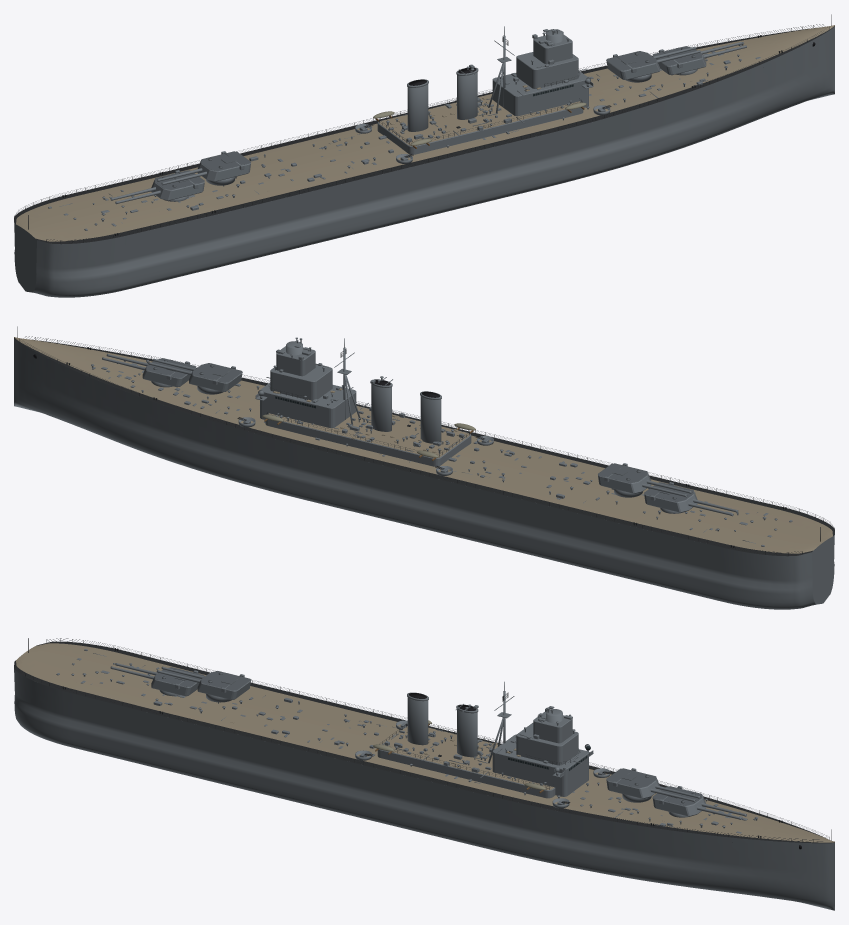
File: hood.glb
The picture shows the model from 3 angles, top to bottom: view 1: azimuth 30°, elevation 25°; view 2: azimuth 150°, elevation 25°; view 3: azimuth 330°, elevation 25°; orthographic projection.
Parts seen in each view (by area): view 1: hood, T_2_malla, T_1_malla, T_3_malla, T_0_malla; view 2: hood, T_2_malla, T_1_malla, T_3_malla, T_0_malla; view 3: hood, T_1_malla, T_2_malla, T_0_malla, T_3_malla.
Boxes of the visible parts, bbox=[...] form: hood: bbox=[14, 14, 834, 297]; T_2_malla: bbox=[197, 151, 250, 181]; T_1_malla: bbox=[606, 51, 659, 79]; T_3_malla: bbox=[151, 170, 204, 200]; T_0_malla: bbox=[652, 46, 706, 75]; hood: bbox=[14, 326, 834, 609]; T_2_malla: bbox=[598, 463, 651, 493]; T_1_malla: bbox=[189, 363, 242, 391]; T_3_malla: bbox=[644, 482, 697, 512]; T_0_malla: bbox=[142, 358, 196, 387]; hood: bbox=[14, 638, 834, 910]; T_1_malla: bbox=[606, 768, 659, 798]; T_2_malla: bbox=[197, 671, 250, 699]; T_0_malla: bbox=[652, 786, 705, 816]; T_3_malla: bbox=[151, 667, 204, 696].
Size of the model in its own units: 262 by 46 by 31.8.
